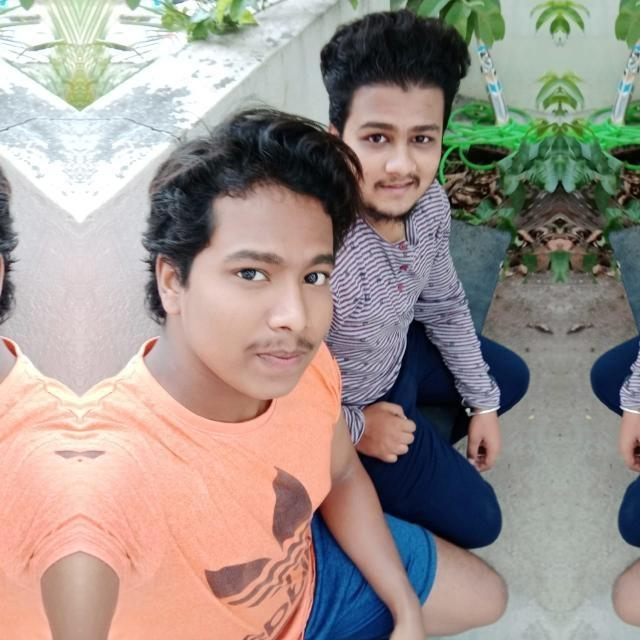person: (92, 130, 386, 640), (290, 7, 500, 486), (0, 130, 67, 640), (619, 6, 640, 485)
